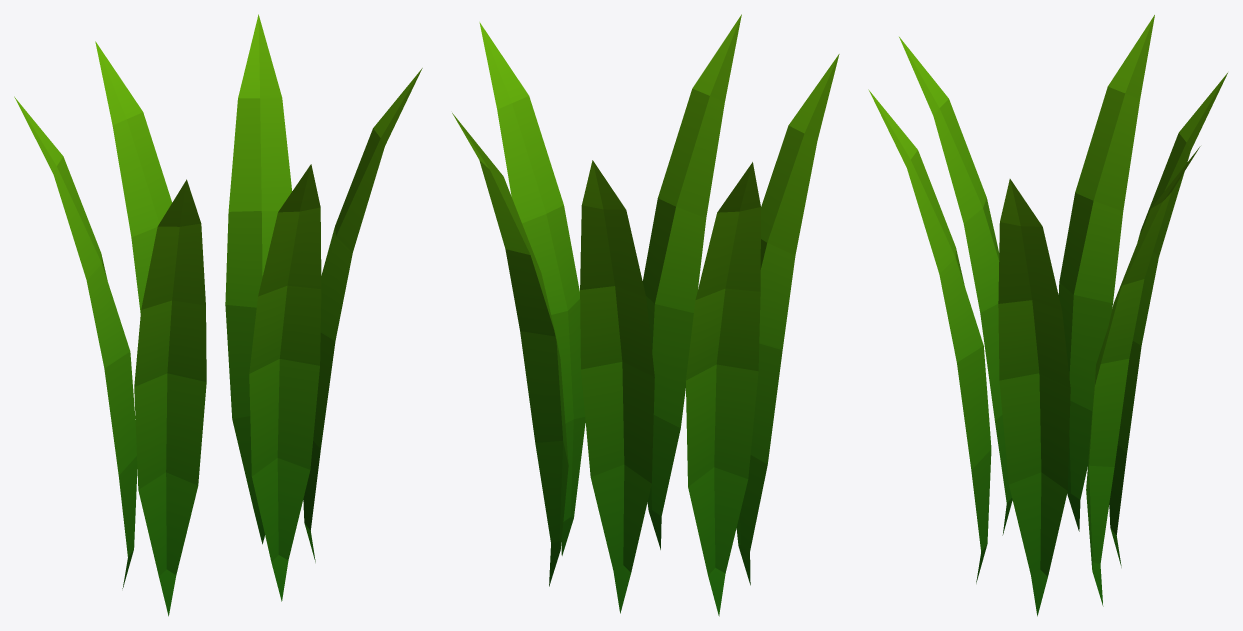
Rendered from grass_11.glb.
The picture shows the model from 3 angles, left to right: view 1: azimuth 30°, elevation 25°; view 2: azimuth 150°, elevation 25°; view 3: azimuth 270°, elevation 25°; orthographic projection. The views are drawn at different scales.
Visible parts, largest first — view 1: grass_11; view 2: grass_11; view 3: grass_11.
Boxes of the visible parts, x1=… form: grass_11: x1=14, y1=14, x2=422, y2=616; grass_11: x1=452, y1=14, x2=839, y2=616; grass_11: x1=868, y1=15, x2=1227, y2=616.
Bounding box in the file's own units: 0.2131 × 0.2931 × 0.1977.
Materials: 1 (1 with a texture image).
